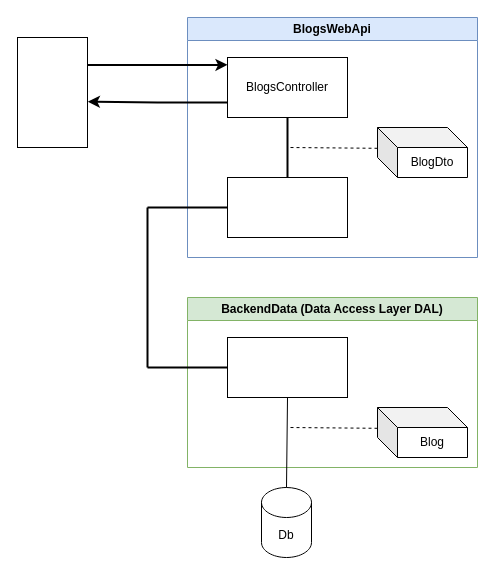
The diagram is 495 pixels wide and 575 high, and some of its shapes have lost their labels. Here are the shapes that lost their labels. From the top down, the centre of each, then its label:
At pixel 52 92: "Client".
At pixel 287 207: "BlogService".
At pixel 287 367: "Entity Framework".
